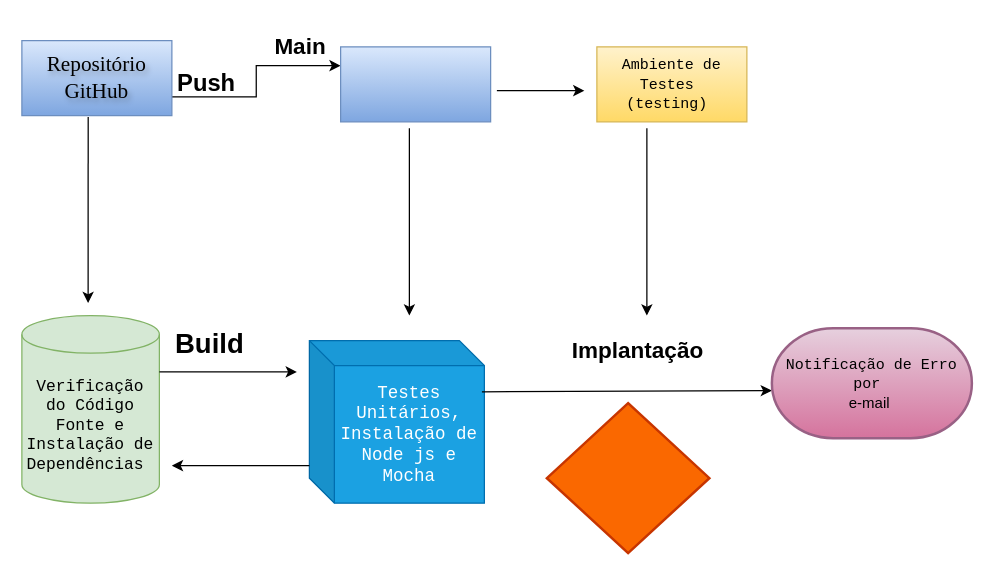
Some shapes in this 995 by 575 pixel diagram are drawn without their labels. Each missing label, with the box of its shape:
Artefato de Release Criado com Sucesso: (545, 401, 710, 554)
CI/CD Pipeline (Github Actions): (339, 46, 491, 122)
